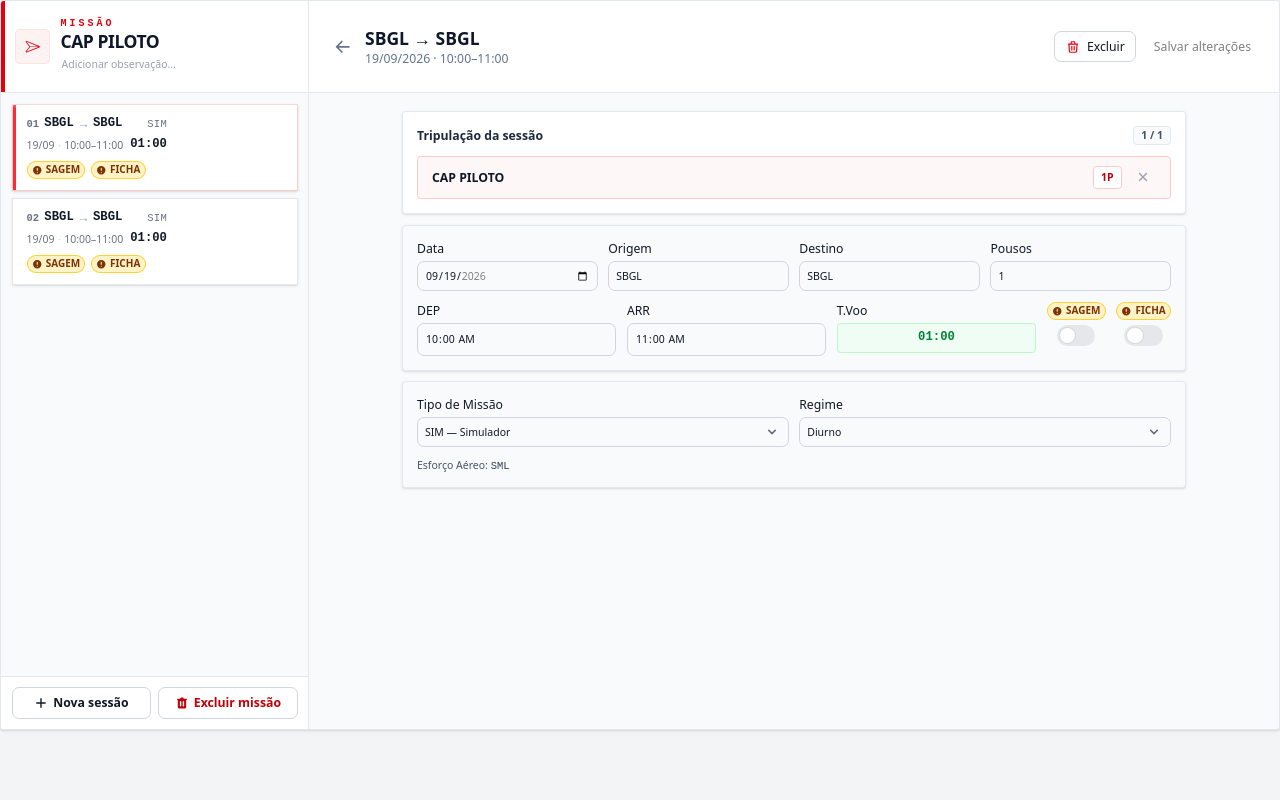
Test case: sessão sem piloto › marca a sessão como Verificar e explica o bloqueio perto do botão Salvar
Check: the text "incompleta" is not shown
Click the button named "Remover CAP PILOTO". click: (1144, 177)
box: [1132,165,1156,189]
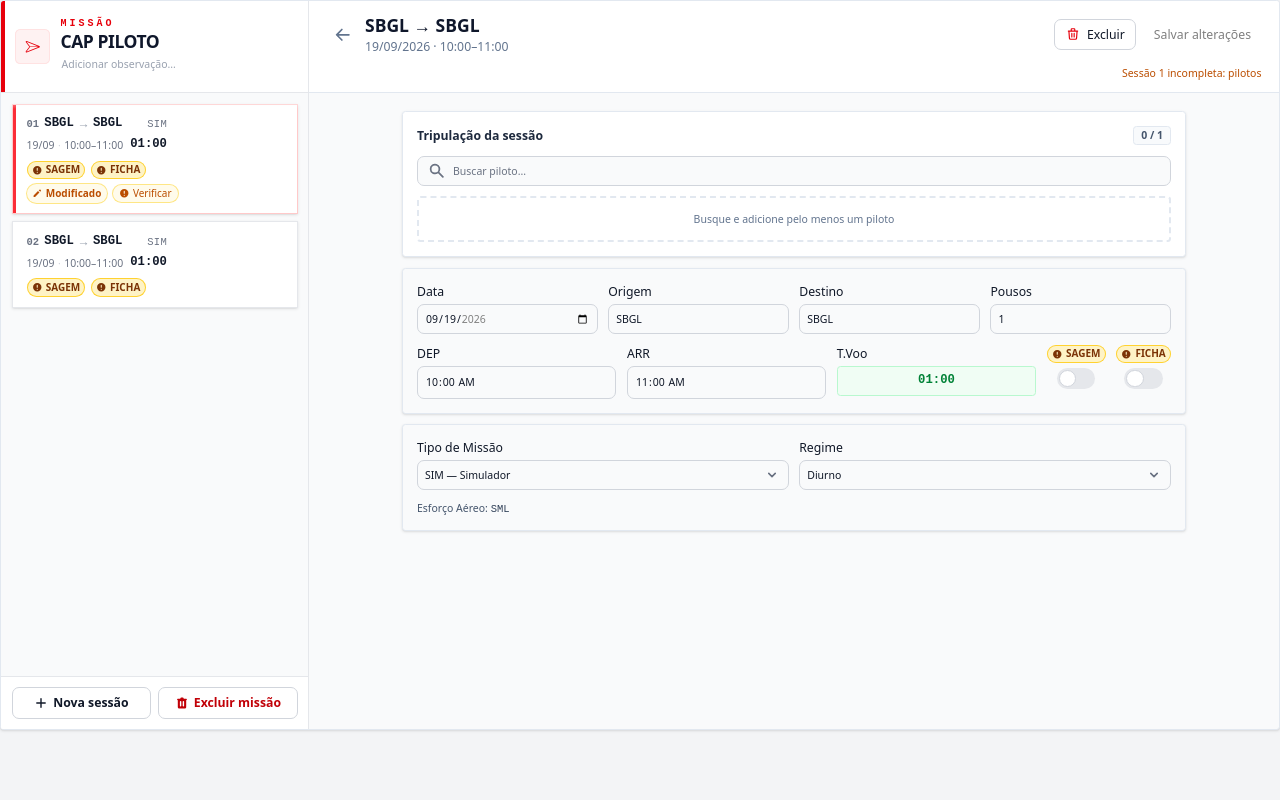
Check: the button "Salvar alterações" is disabled, box [1143,18,1262,50]
Check: the text "Verificar" is shown, box [112,184,179,203]
